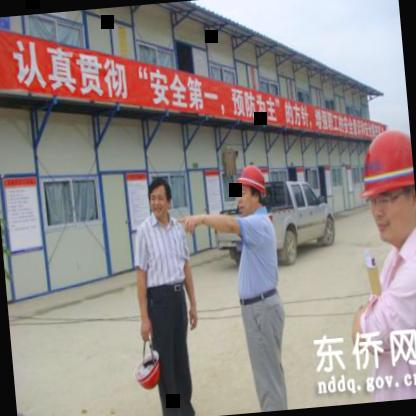head: (145, 173, 176, 222)
helmet: (355, 124, 416, 245), (233, 162, 270, 214)
